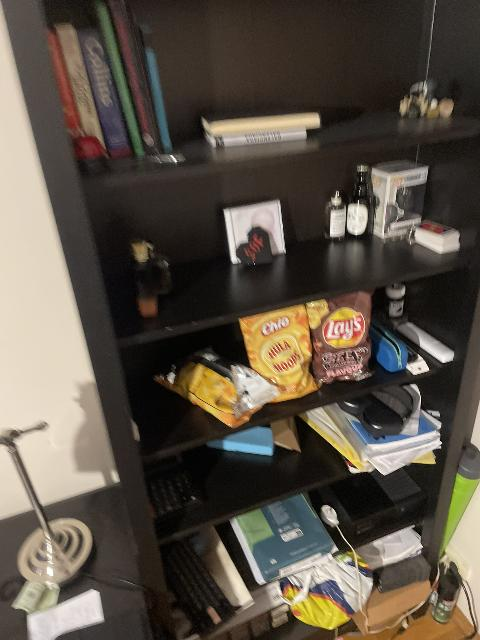Chio Cascaval 125g: (156, 346, 269, 429)
Chio Hula Hoops Cheese 70g: (238, 301, 320, 393)
Lays Beef Grilled Ribs 125g: (308, 288, 372, 381)
